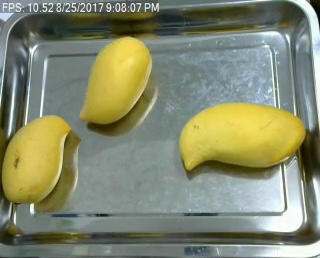Mango: (177, 101, 309, 176), (78, 35, 155, 126), (0, 113, 71, 208)
